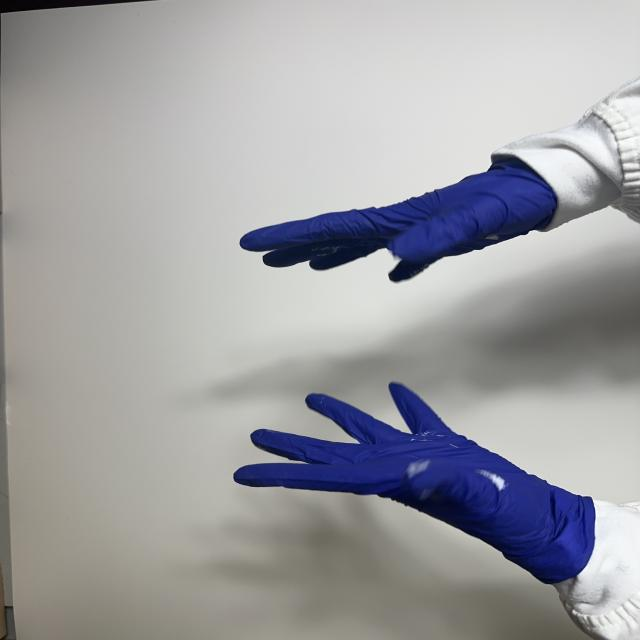gloves_contaminated: (234, 383, 596, 584), (240, 160, 557, 282)
